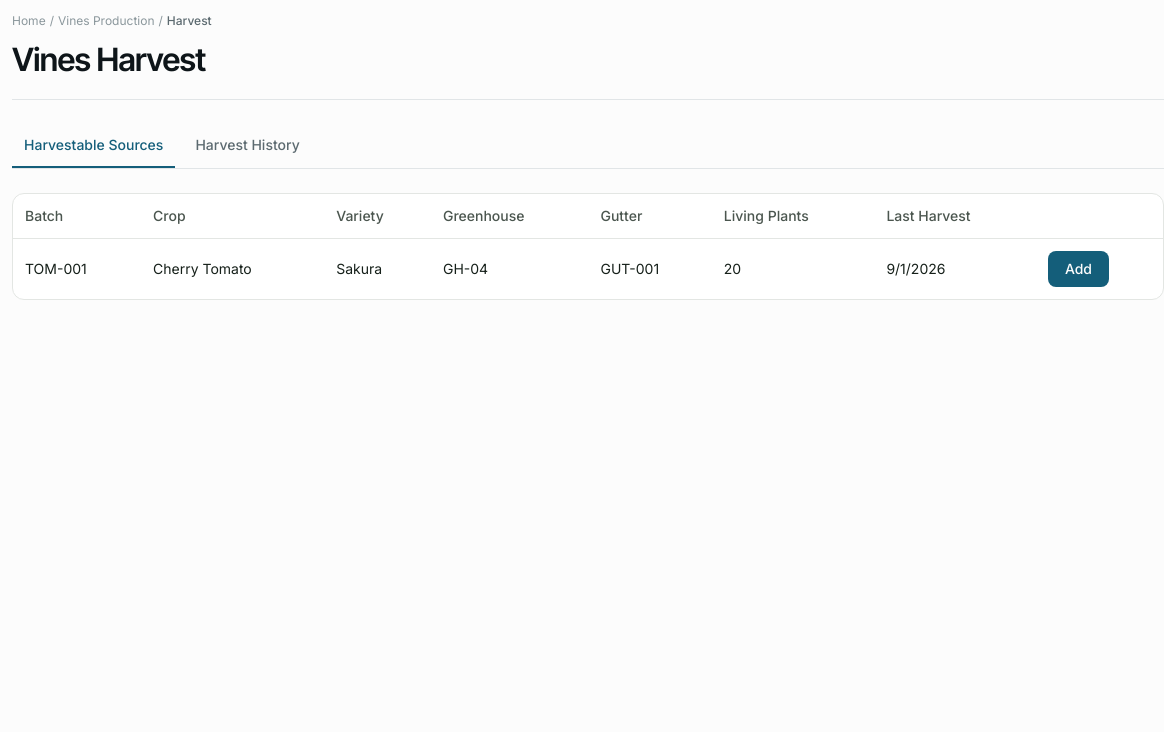
Test: VinesHarvestPage › Harvest History shows repeat harvests from the same Batch as separate rows, human-readable codes only
Expected: the text "GUT-001" is shown, [588,238,712,299]
Step 1. Click the tab "Harvest History" → {"x": 248, "y": 146}, box [183,124,312,168]
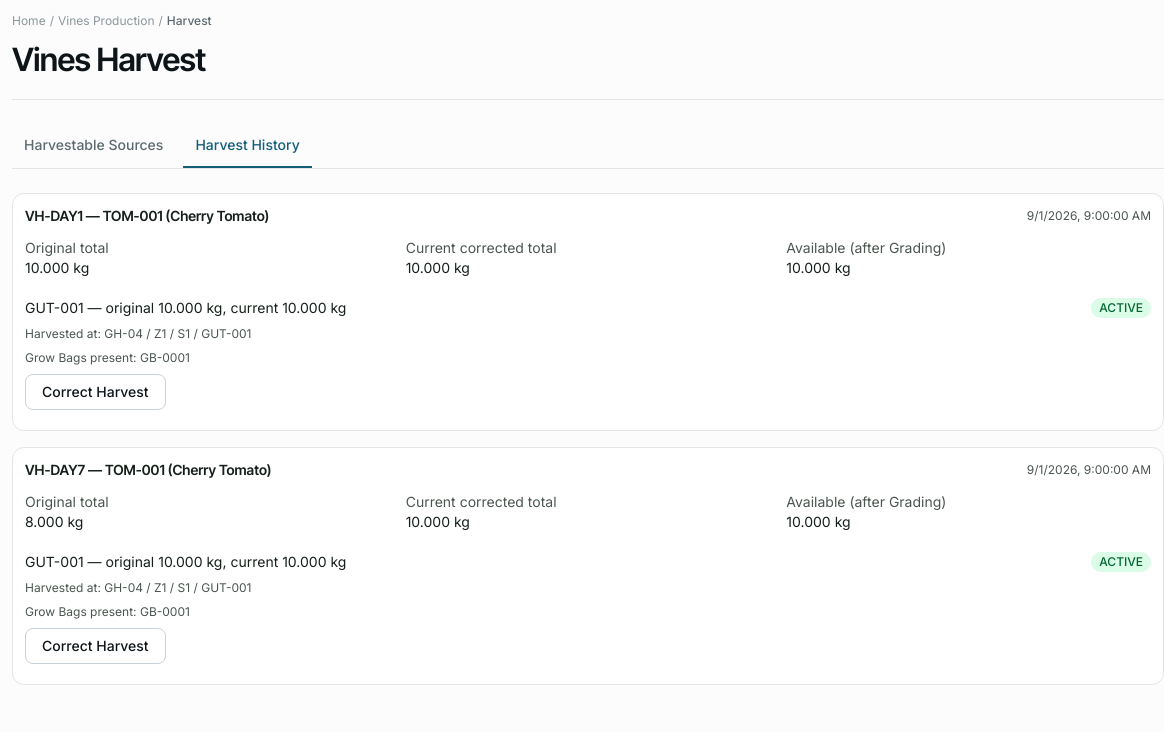
Result: the text "VH-DAY1 — TOM-001 (Cherry Tomato)" is shown at [25,206,269,226]
Result: the text "VH-DAY7 — TOM-001 (Cherry Tomato)" is shown at [25,460,271,480]
